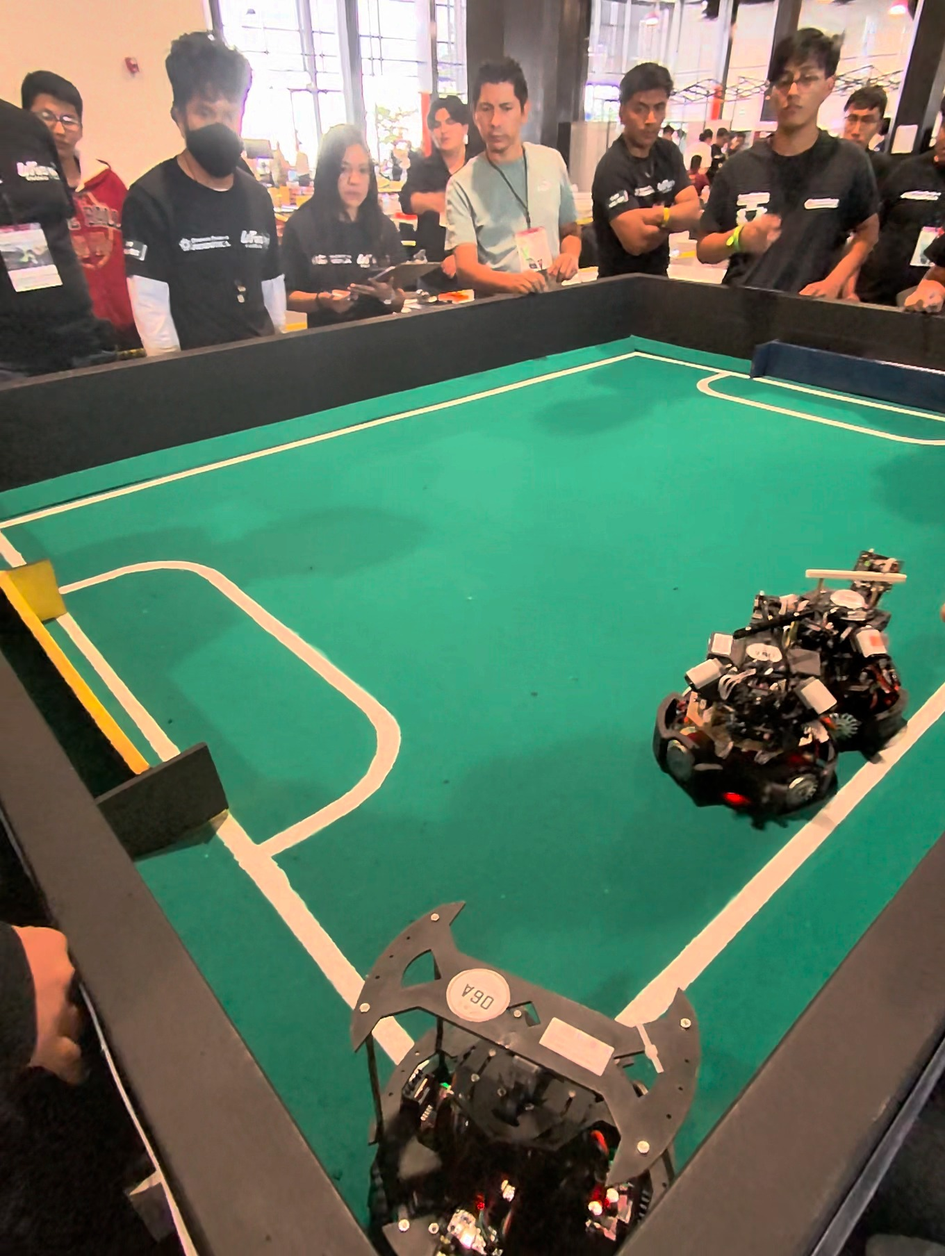Robot: (330, 950, 748, 1255), (647, 617, 832, 834), (789, 539, 913, 765)
